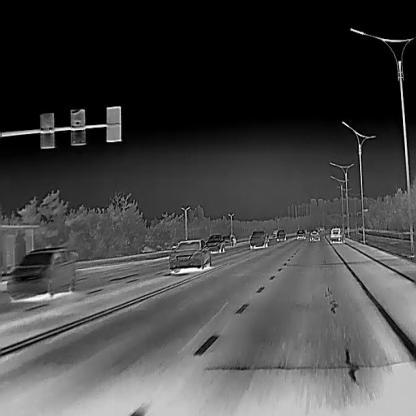car: (7, 246, 78, 302), (169, 238, 211, 273), (206, 234, 226, 253), (249, 230, 268, 249), (329, 227, 344, 243), (222, 235, 236, 248), (309, 229, 320, 241), (295, 229, 306, 240), (277, 229, 286, 241)
